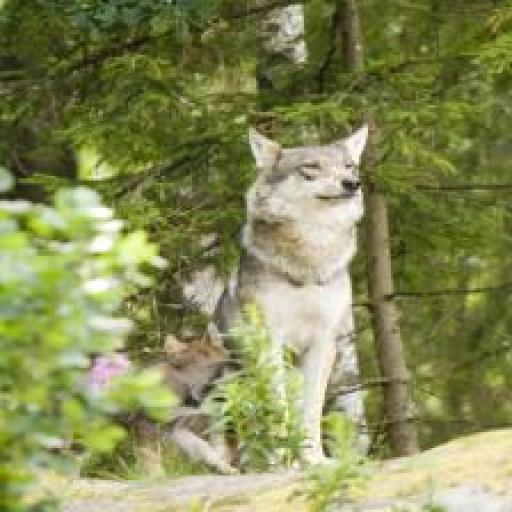wolf: (153, 123, 374, 463), (62, 320, 243, 478)
